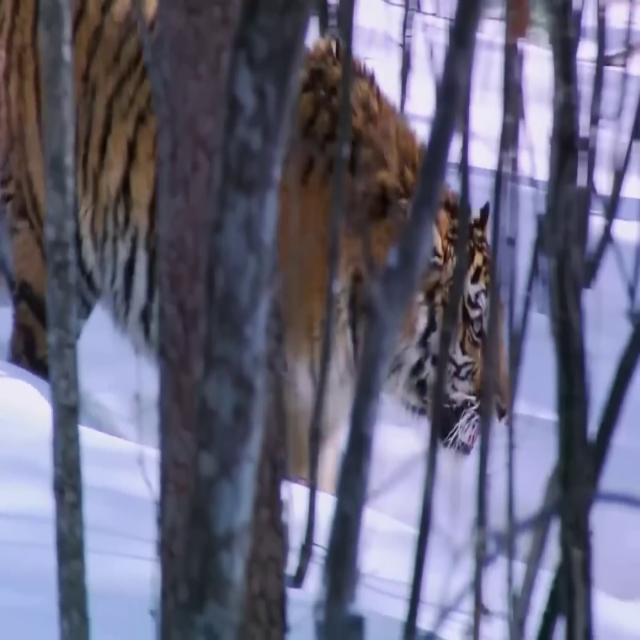tiger: (0, 0, 511, 489)
